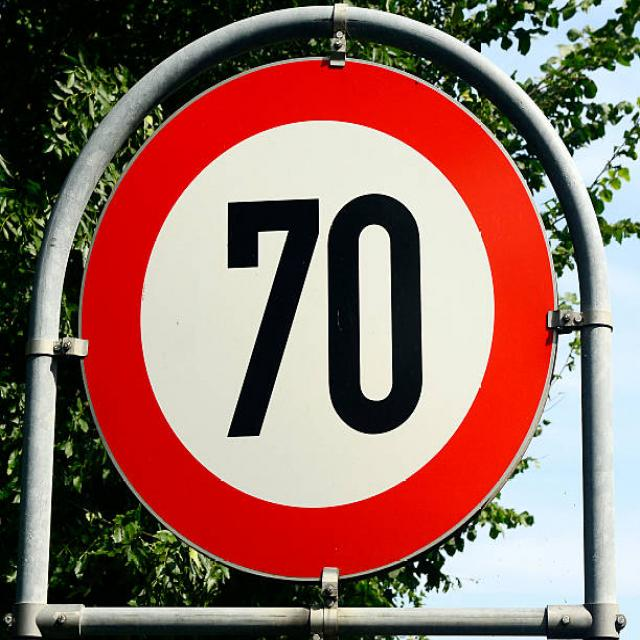speed_limit_70: (74, 52, 560, 584)
